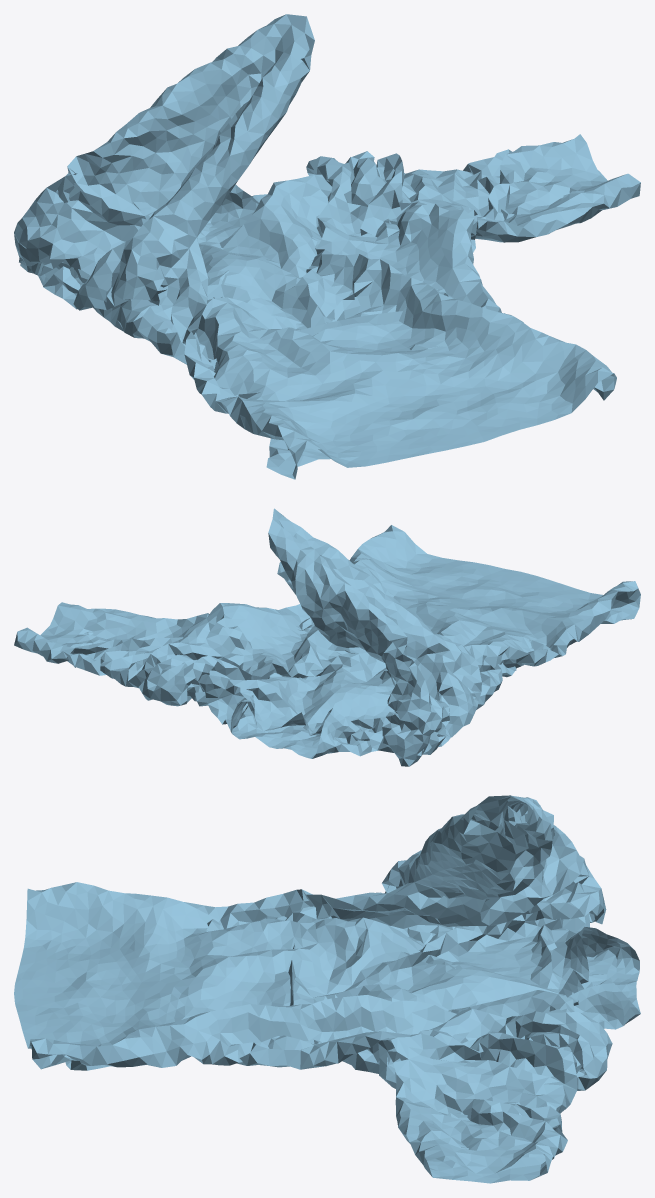
File: frame_16.glb
3 renders of one model, top to bottom at view 1: azimuth 30°, elevation 25°; view 2: azimuth 150°, elevation 25°; view 3: azimuth 270°, elevation 25°, orthographic. The views are drawn at different scales.
Parts seen in each view (by area): view 1: frame_16.obj; view 2: frame_16.obj; view 3: frame_16.obj.
Boxes of the visible parts, x1,y1,x2,y2 form: frame_16.obj: [14, 14, 640, 479]; frame_16.obj: [14, 508, 640, 766]; frame_16.obj: [14, 795, 640, 1183].
Size of the model in its own units: 1.38 by 0.5811 by 1.35.
